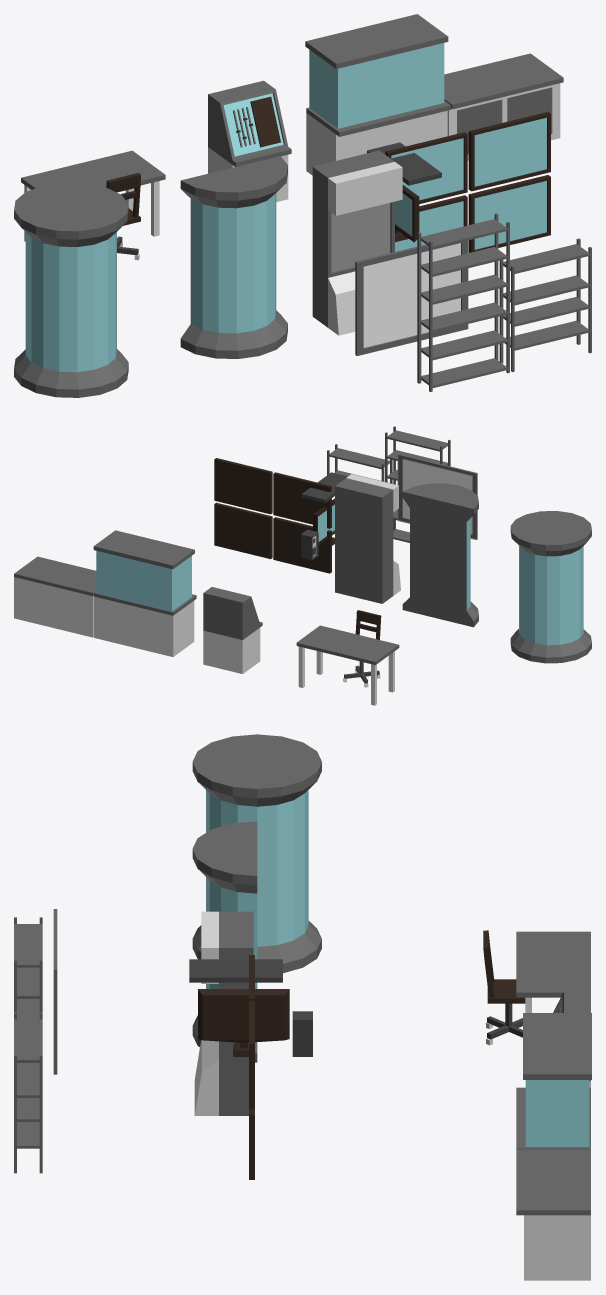
Rendered from Lab Props.fbx.
3 views of the same model, one above another, from view 1: azimuth 30°, elevation 25°; view 2: azimuth 150°, elevation 25°; view 3: azimuth 270°, elevation 25° (orthographic). The views are drawn at different scales.
Parts seen in each view (by area): view 1: Containment Chamber Whole, Containment Chamber Half, Observation Deck, Moniter Set, Console, Shelves 1, Whiteboard, Table 1, Broadcast Station, Shelves 2, Table 2, Computer (+2 smaller); view 2: Observation Deck, Containment Chamber Whole, Moniter Set, Containment Chamber Half, Console, Table 1, Broadcast Station, Table 2, Whiteboard, Shelves 1, Shelves 2, Office Chair (+3 smaller); view 3: Containment Chamber Whole, Observation Deck, Table 1, Console, Containment Chamber Half, Table 2, Computer, Shelves 2, Shelves 1, Top Shelf, Office Chair, Moniter Set (+3 smaller).
Boxes of the visible parts, <box> form: Containment Chamber Whole: <box>14,183,128,397</box>; Containment Chamber Half: <box>180,156,287,358</box>; Observation Deck: <box>305,14,450,175</box>; Moniter Set: <box>385,112,550,252</box>; Console: <box>312,150,402,335</box>; Shelves 1: <box>417,213,509,391</box>; Whiteboard: <box>355,240,468,355</box>; Table 1: <box>444,53,563,160</box>; Broadcast Station: <box>208,80,291,201</box>; Shelves 2: <box>499,238,591,371</box>; Table 2: <box>21,150,165,241</box>; Computer: <box>395,185,419,242</box>; Observation Deck: <box>93,530,196,656</box>; Containment Chamber Whole: <box>510,511,591,663</box>; Moniter Set: <box>214,458,331,573</box>; Containment Chamber Half: <box>402,483,478,627</box>; Console: <box>335,474,400,603</box>; Table 1: <box>14,556,96,637</box>; Broadcast Station: <box>203,587,262,673</box>; Table 2: <box>296,625,399,705</box>; Whiteboard: <box>397,454,477,539</box>; Shelves 1: <box>385,426,450,542</box>; Shelves 2: <box>327,444,392,483</box>; Office Chair: <box>343,610,381,687</box>; Containment Chamber Whole: <box>192,734,321,973</box>; Observation Deck: <box>516,1013,591,1149</box>; Table 1: <box>516,1149,590,1280</box>; Console: <box>194,911,253,1115</box>; Containment Chamber Half: <box>192,821,257,1062</box>; Table 2: <box>516,931,590,1012</box>; Computer: <box>198,989,289,1056</box>; Shelves 2: <box>14,1012,42,1173</box>; Shelves 1: <box>14,917,42,1019</box>; Top Shelf: <box>189,959,282,982</box>; Office Chair: <box>483,930,525,1045</box>; Moniter Set: <box>249,955,254,1179</box>.
Size of the model in its own units: 827 by 203 by 562.
